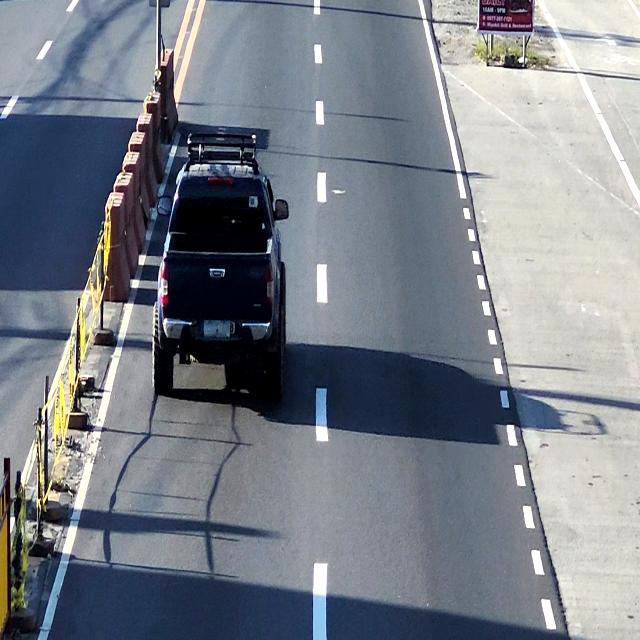Car: (157, 140, 293, 394)
License-Plate: (203, 321, 230, 338)
